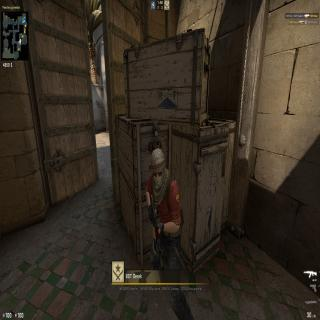T-Head: (149, 148, 167, 188)
